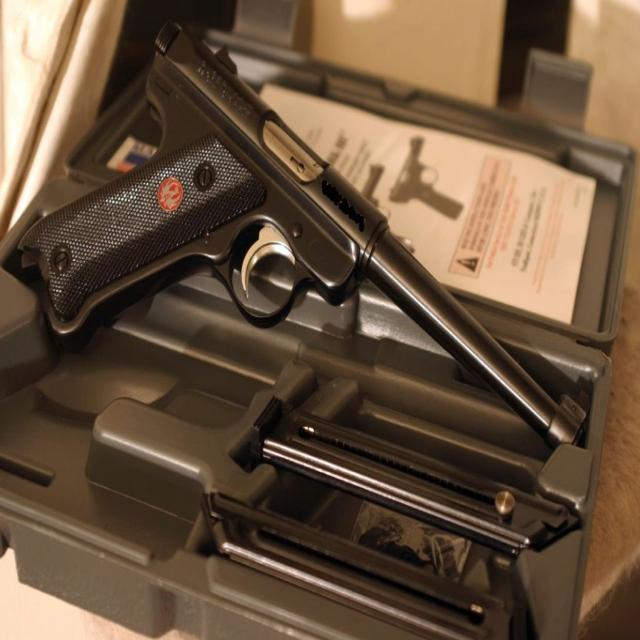Gun: (19, 25, 581, 446)
